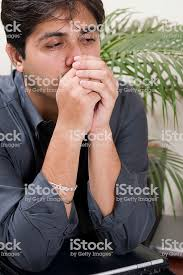Indian_Male: (18, 11, 103, 110)
